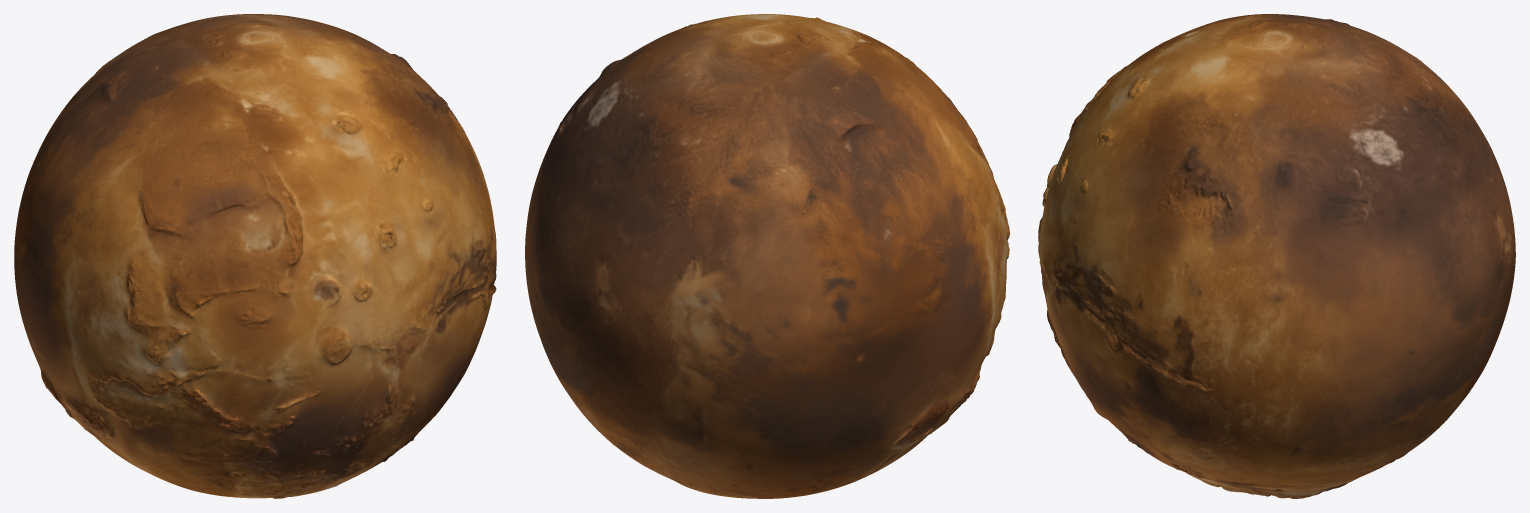
The picture shows the model from 3 angles, left to right: view 1: azimuth 30°, elevation 25°; view 2: azimuth 150°, elevation 25°; view 3: azimuth 270°, elevation 25°; orthographic projection.
Visible parts, largest first — view 1: world; view 2: world; view 3: world.
Part boxes in pixels (x1,y1,x2,y2): world: [14, 14, 496, 498]; world: [525, 14, 1009, 498]; world: [1038, 14, 1515, 498].
Size of the model in its own units: 1 by 0.9967 by 1.
1 material, 1 textured.
